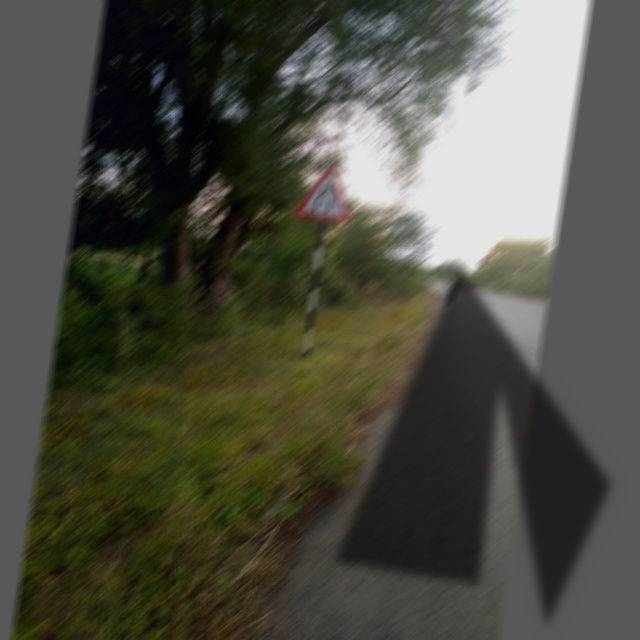Narrow_Road_Ahead: (292, 159, 356, 223)
